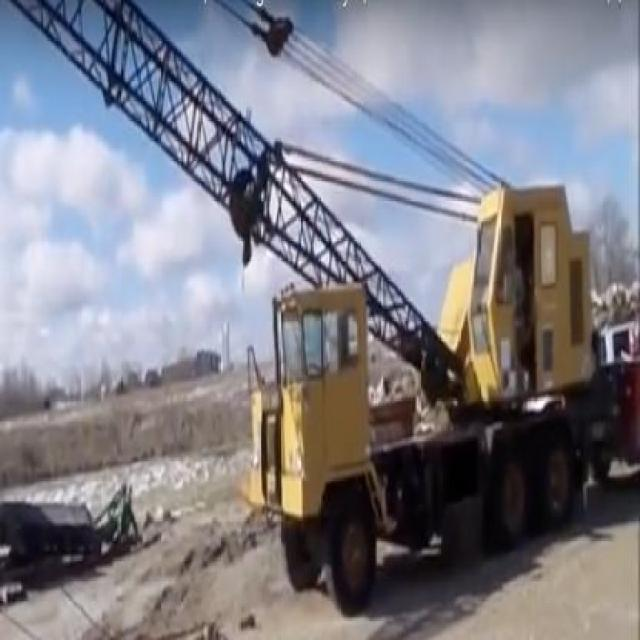Mobile Crane: (13, 0, 618, 614)
